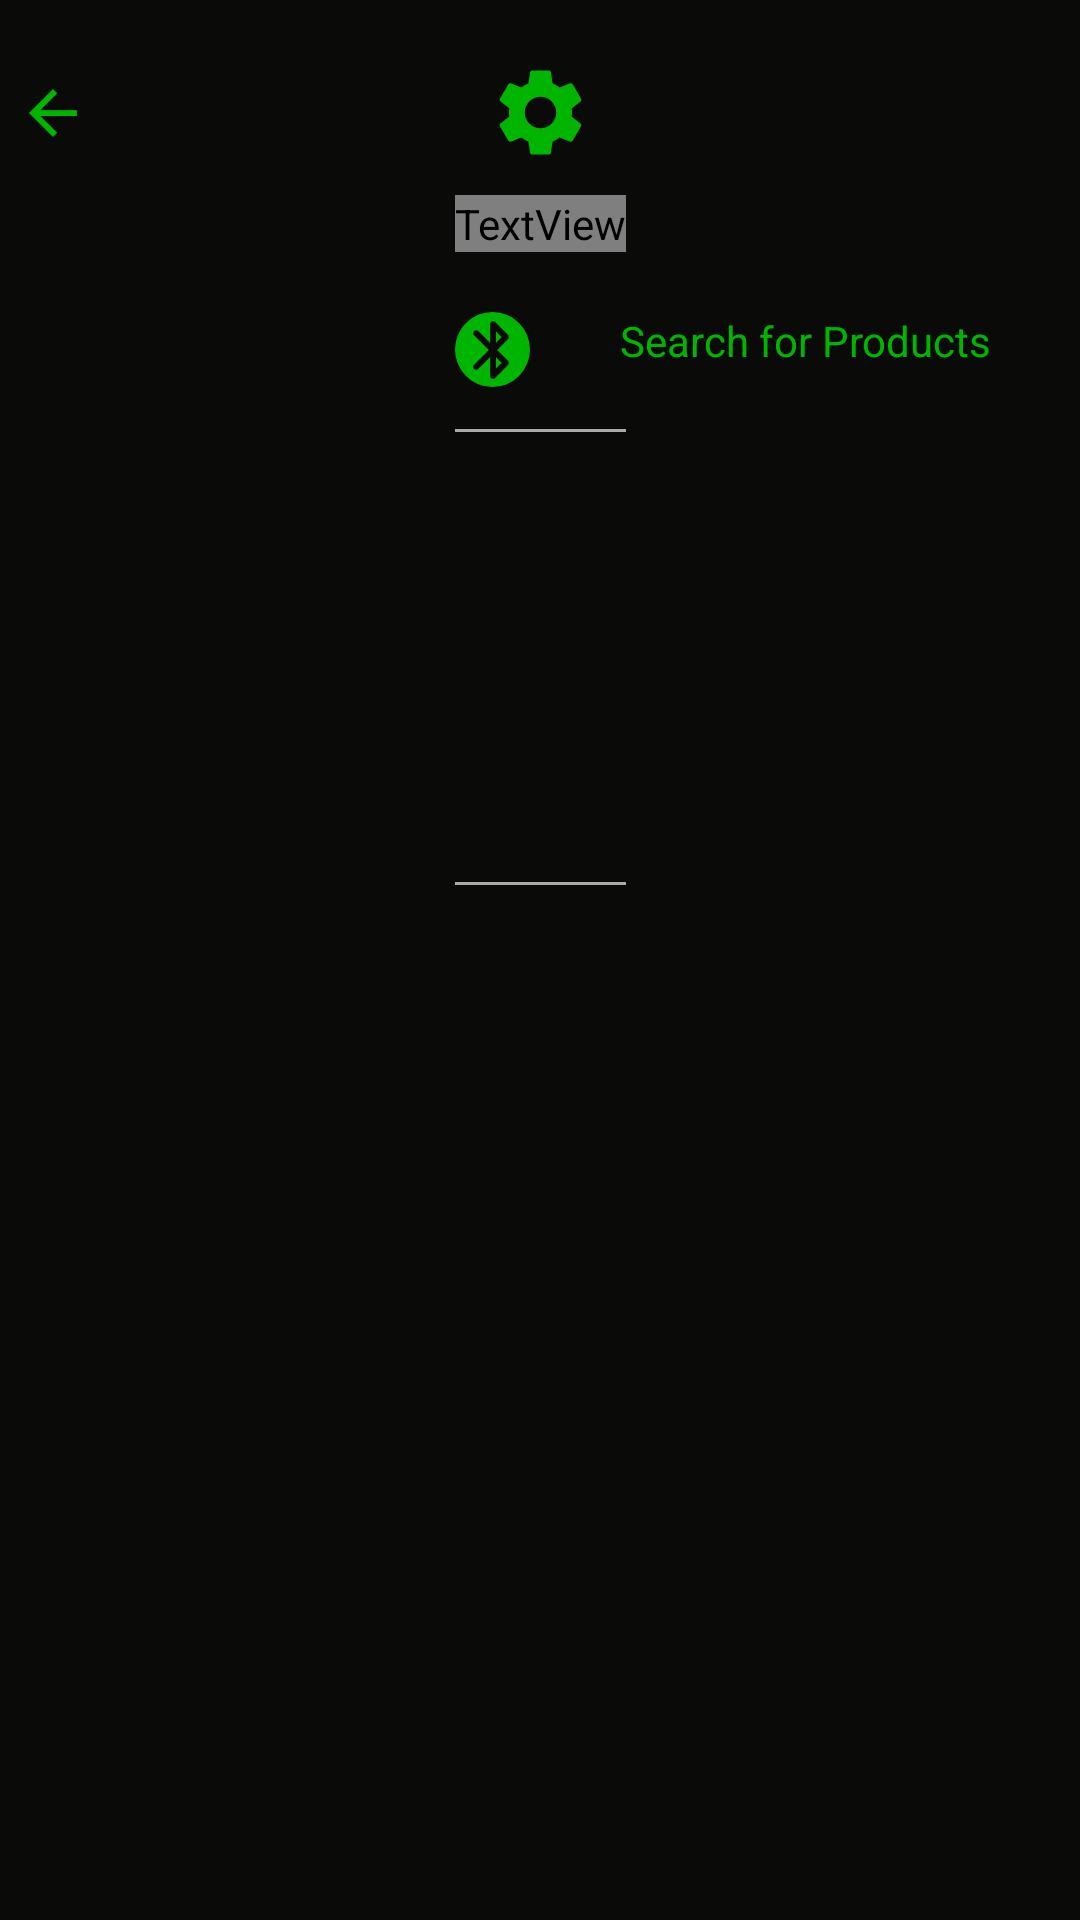

Where to tap for icons on this 1080*1920 app screen, as (x=x, y=y):
arrow back: (x=53, y=113)
settings: (x=540, y=112)
